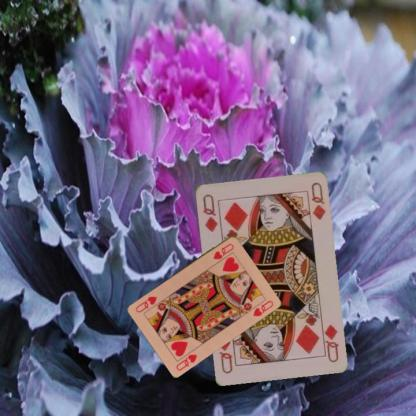Qd: (318, 320, 340, 364), (200, 191, 218, 233)
Qh: (210, 240, 235, 260), (174, 352, 198, 372)
